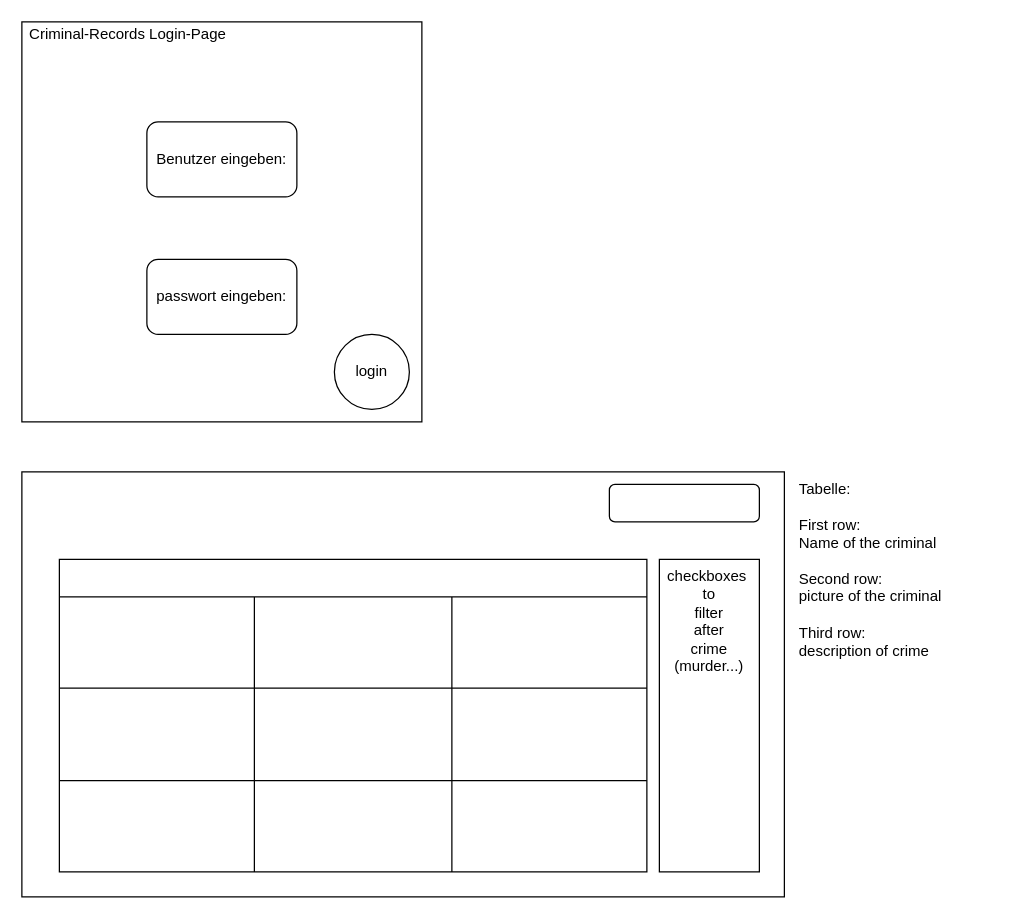
The diagram is 1019 pixels wide and 919 high, and some of its shapes have lost their labels. The shapes that lost their labels are listed below. From the top down, each one's centre as x and y in pixels, then its label:
At [683,502]: "search:_________".
At [352,715]: "Table".
